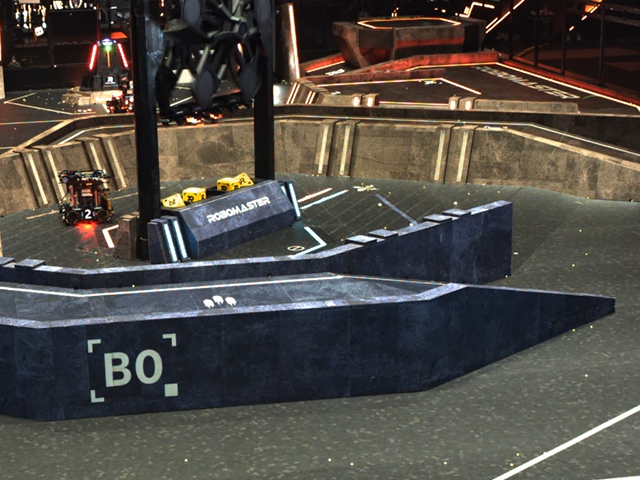rm: (59, 170, 116, 227), (109, 96, 130, 115)
